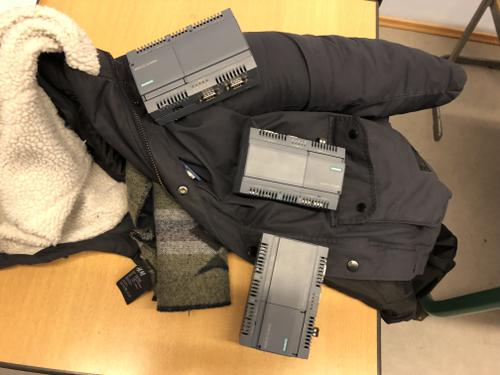device: (127, 8, 261, 127), (239, 233, 329, 360), (232, 128, 346, 211)
